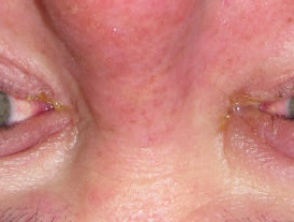SJS-TEN: (216, 70, 294, 150), (22, 78, 93, 139)
